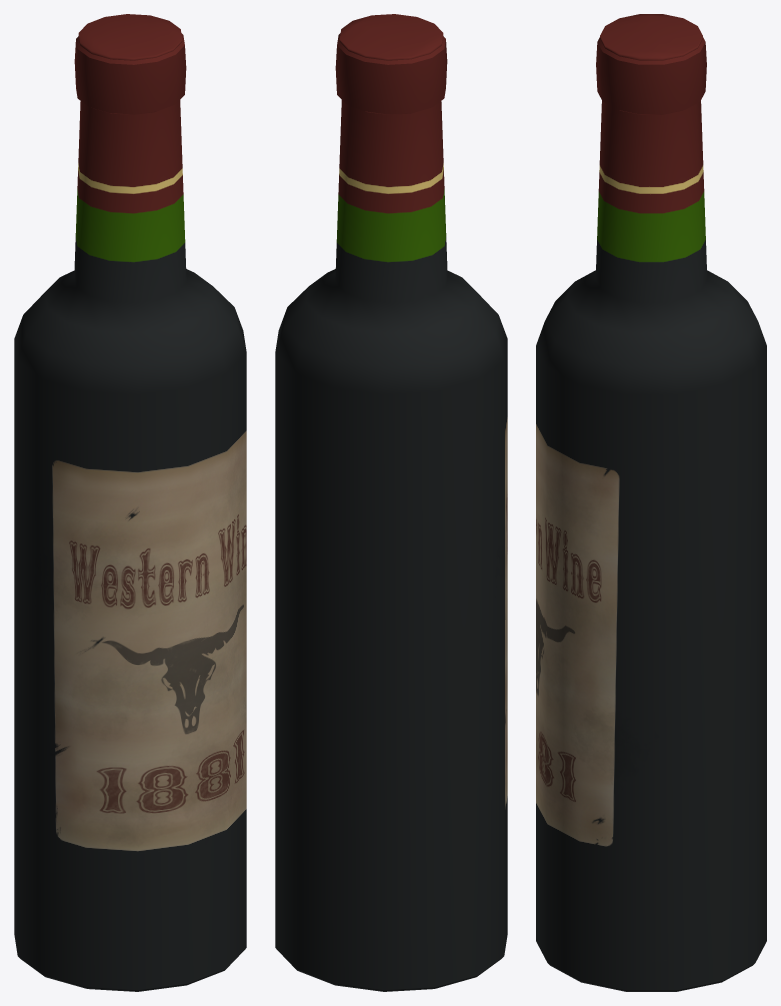
Rendered from Wine bottle.fbx.
3 views of the same model, side by side, from view 1: azimuth 30°, elevation 25°; view 2: azimuth 150°, elevation 25°; view 3: azimuth 270°, elevation 25° (orthographic).
Visible parts, largest first — view 1: Wine bottle; view 2: Wine bottle; view 3: Wine bottle.
Boxes of the visible parts, bbox=[...] form: Wine bottle: bbox=[14, 14, 246, 991]; Wine bottle: bbox=[275, 14, 507, 991]; Wine bottle: bbox=[536, 14, 766, 991].
Bounding box in the file's own units: 0.07 × 0.3051 × 0.07.
